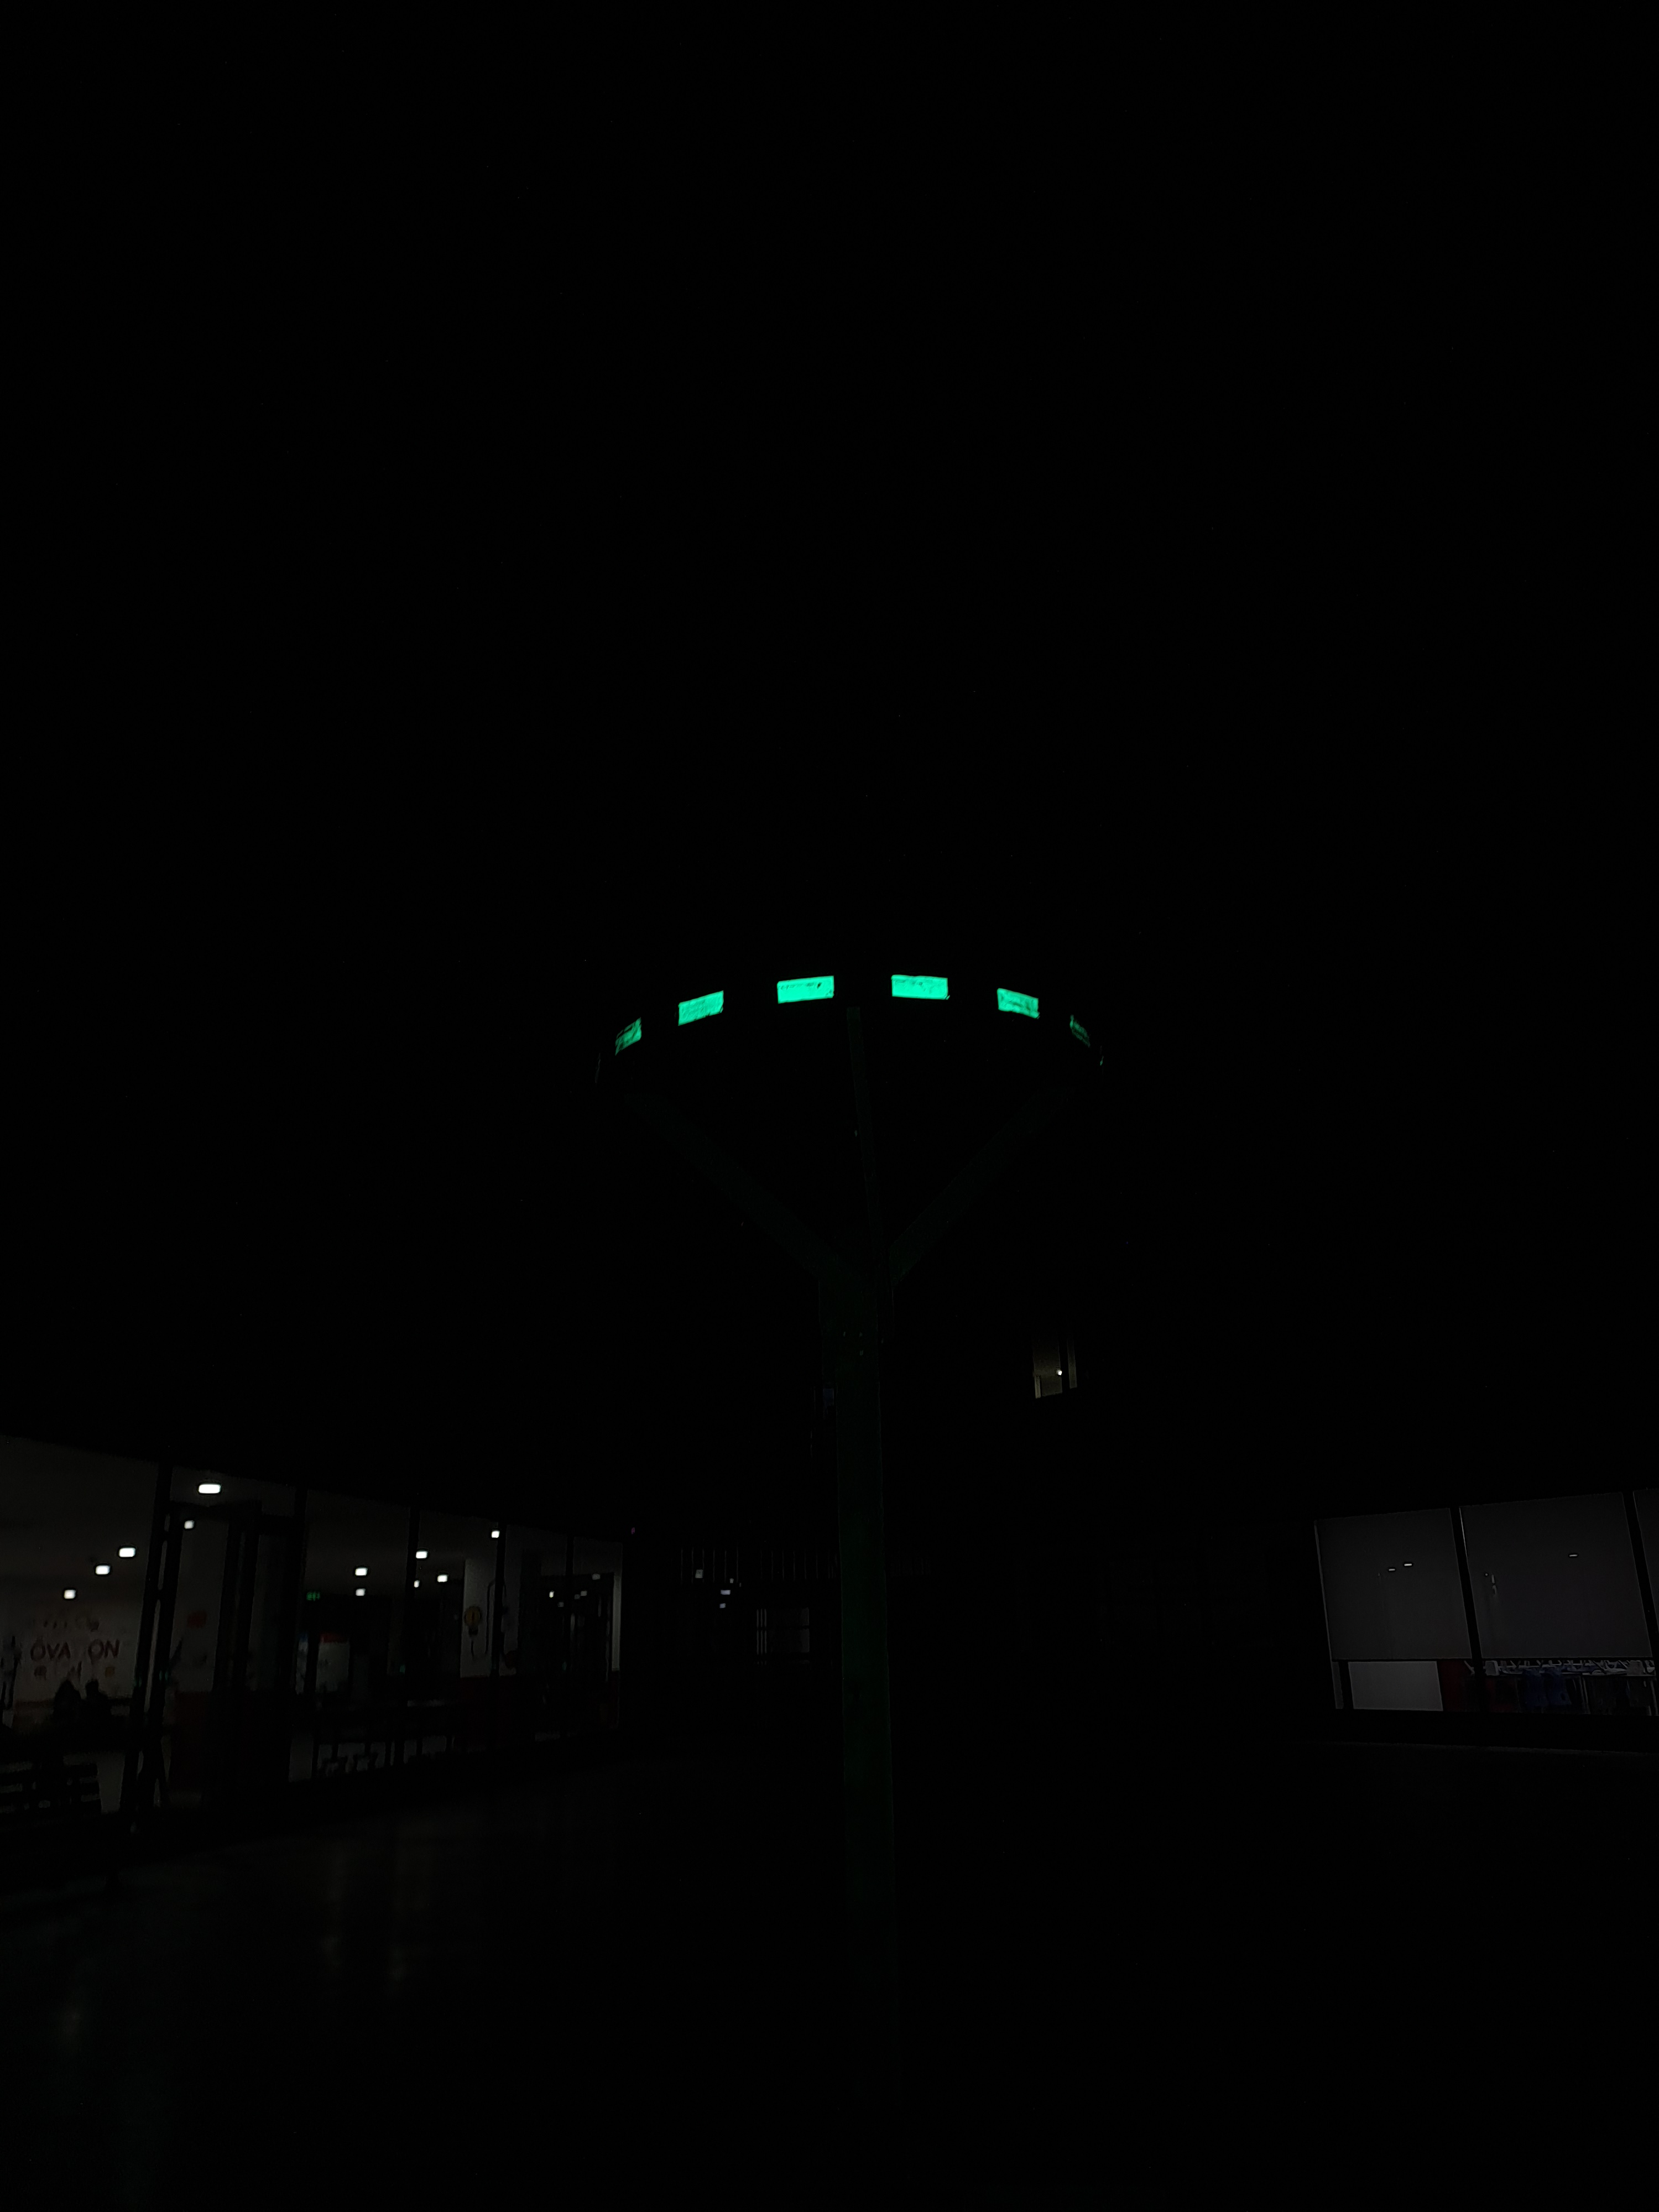hoop: (606, 970, 1042, 1057)
